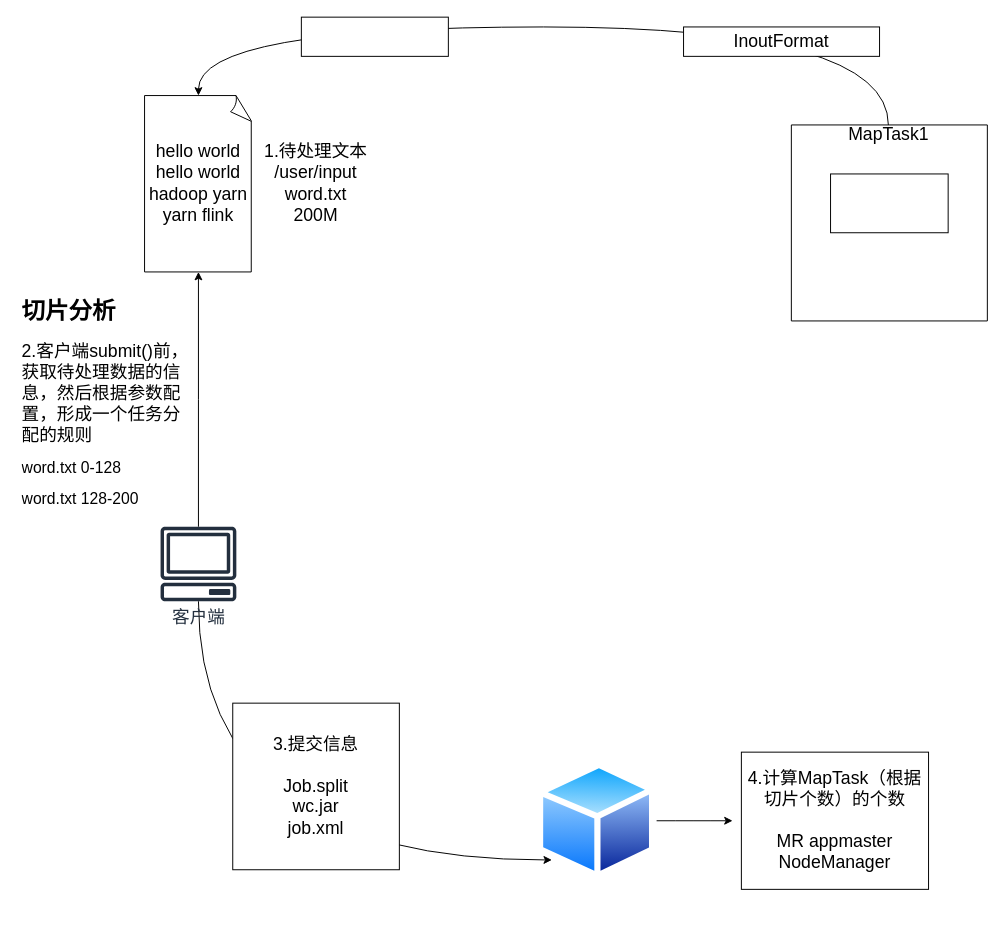
This 1005x928 diagram has some shape labels left out. Here are the shapes that lost their labels. From the top down, the centre of each, then its label:
point 374,36: RecorderReader
point 889,203: K,V
point 596,820: Yarn RM
